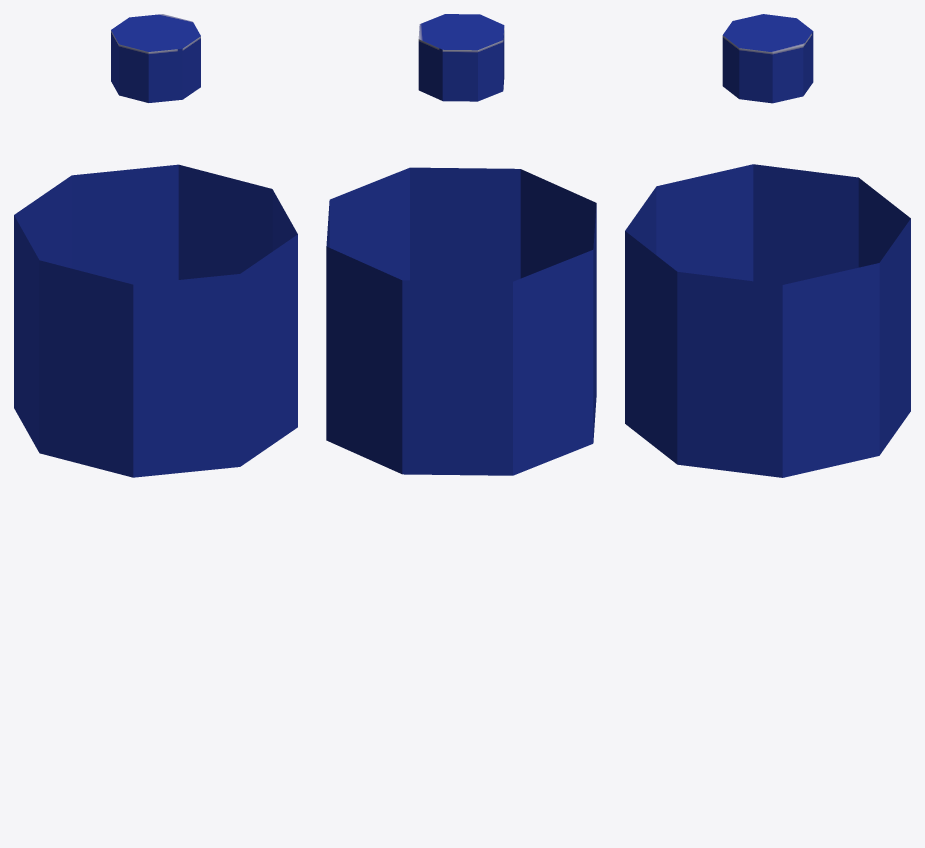
Rendered from Bottle02.FBX.
The picture shows the model from 3 angles, left to right: view 1: azimuth 30°, elevation 25°; view 2: azimuth 150°, elevation 25°; view 3: azimuth 270°, elevation 25°; orthographic projection.
Visible parts, largest first — view 1: Bottle02; view 2: Bottle02; view 3: Bottle02.
Part boxes in pixels (<box>): Bottle02: <box>14,14,297,477</box>; Bottle02: <box>326,14,596,475</box>; Bottle02: <box>625,14,910,477</box>.
Bounding box in the file's own units: 32.05 × 32.05 × 91.85.
